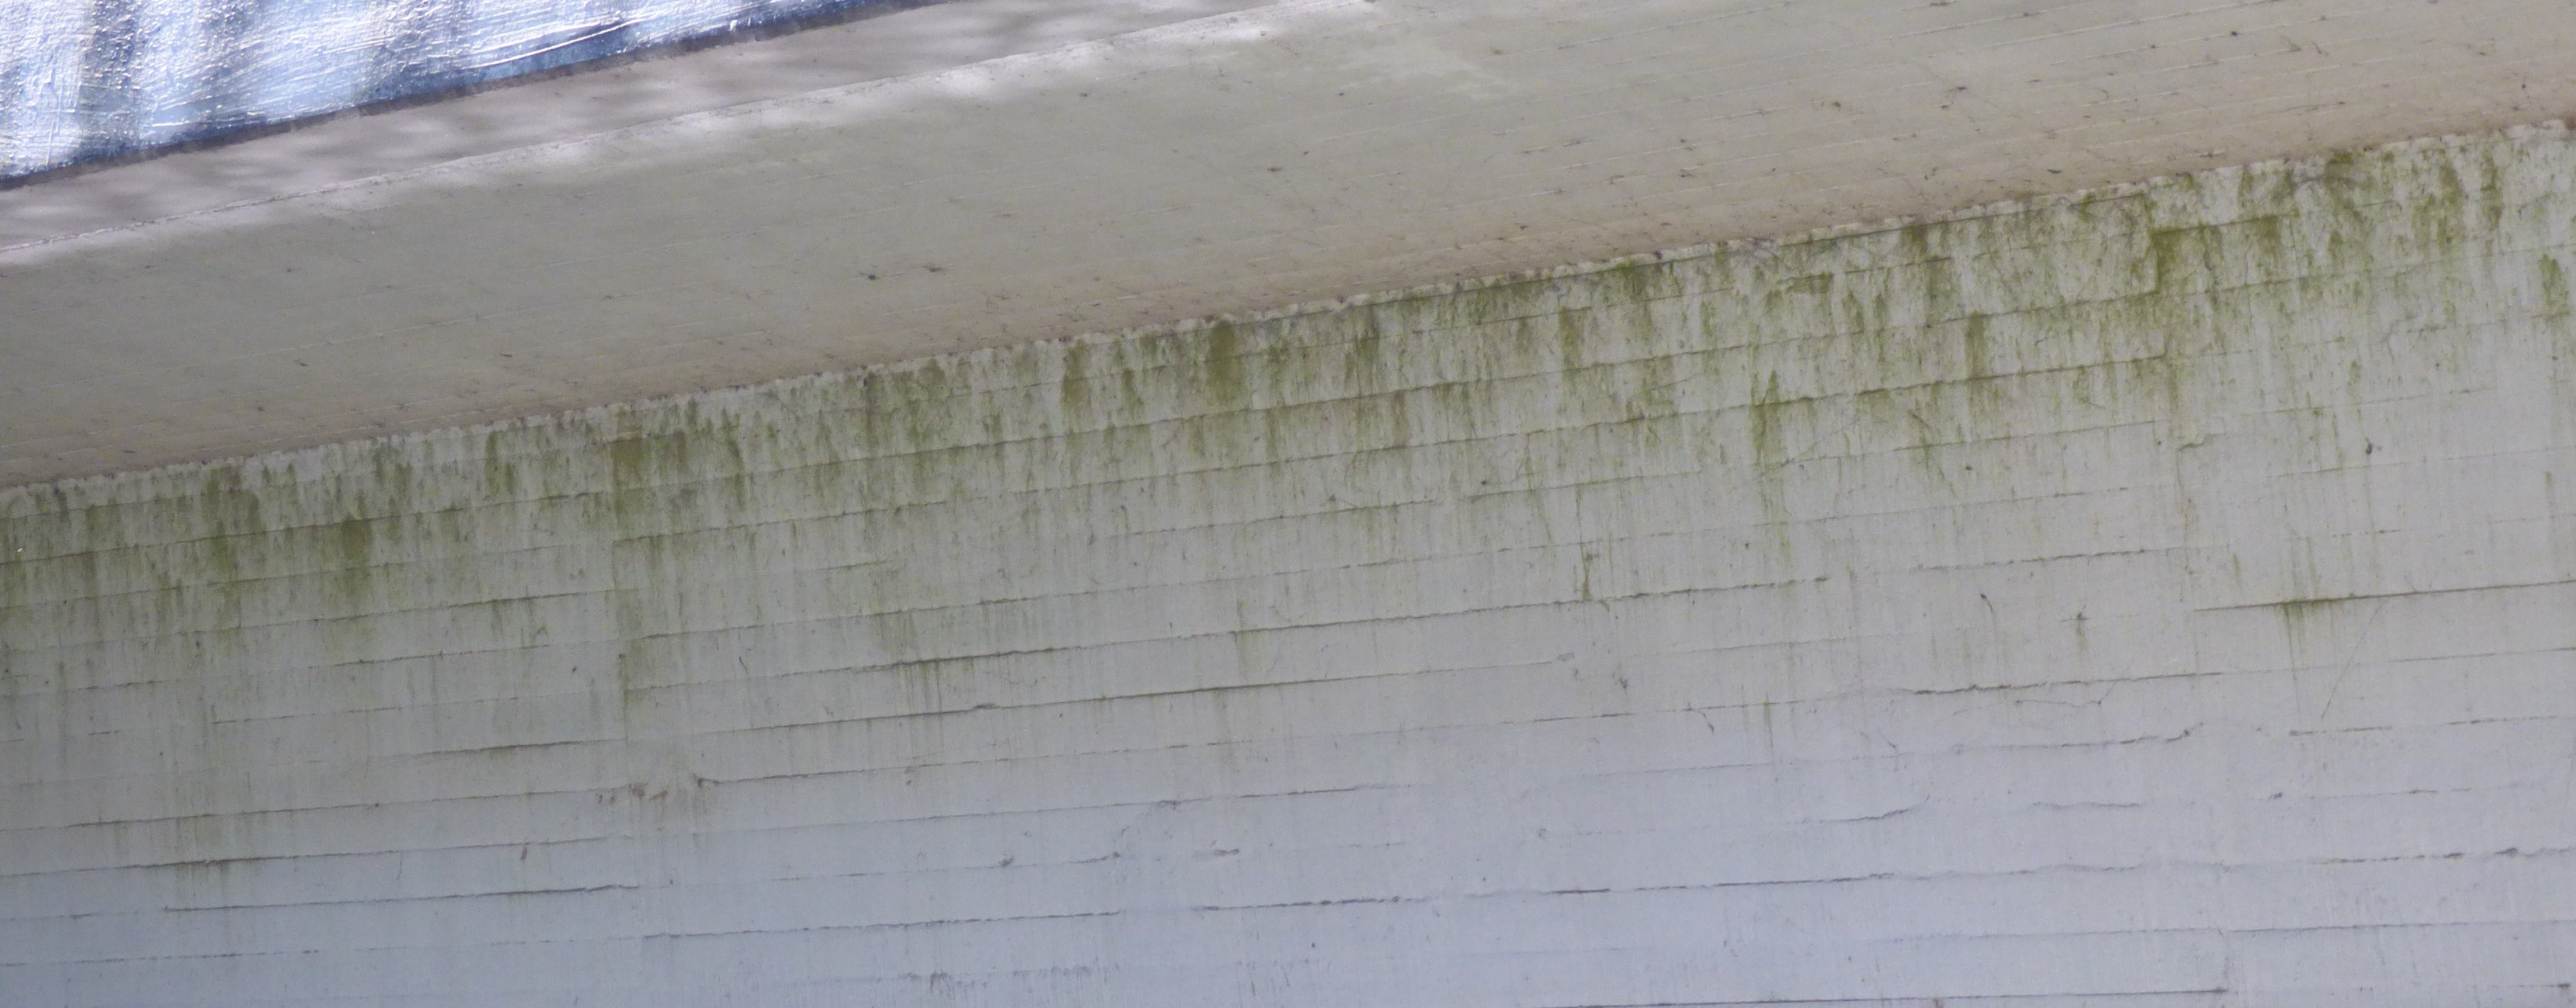Corrosion: (0, 107, 2576, 1008)
